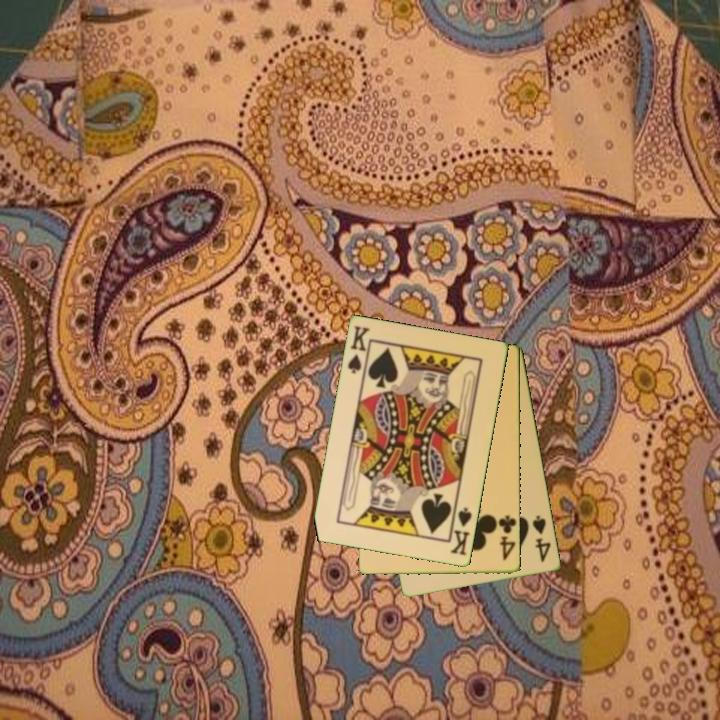4c: (494, 512, 519, 563)
4s: (529, 512, 554, 565)
Ks: (344, 322, 373, 380), (447, 502, 475, 559)
